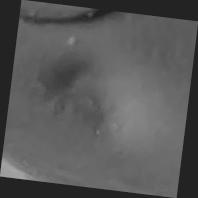dent: (1, 1, 198, 198)
